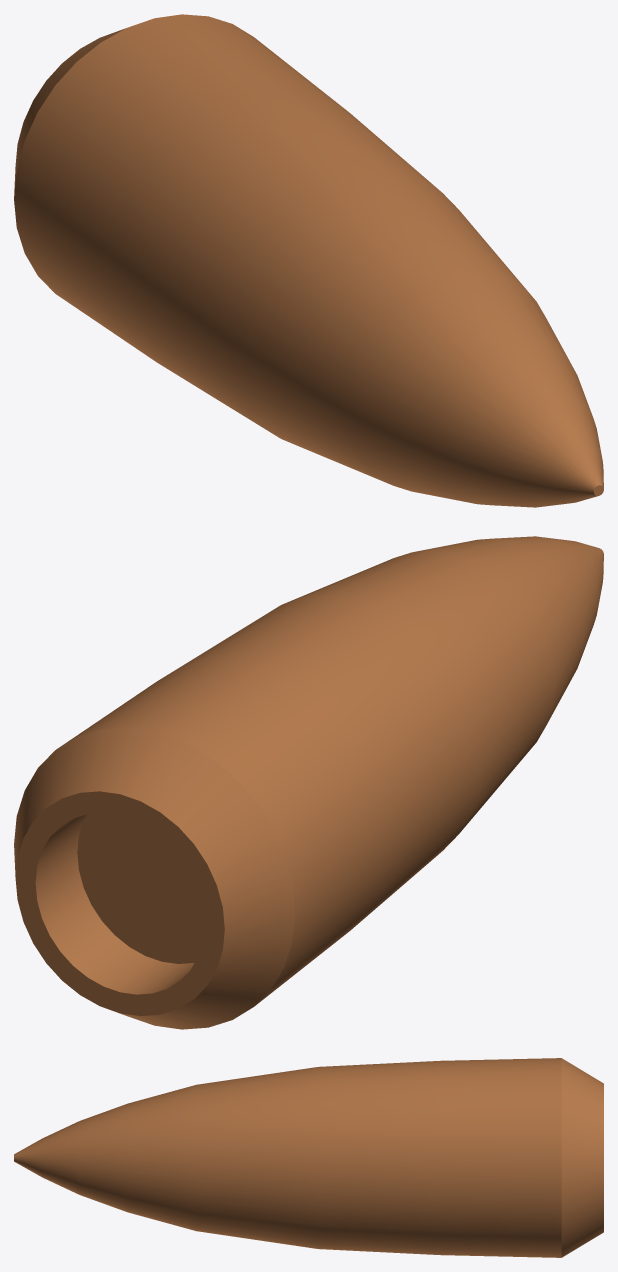
Rendered from bullet.fbx.
3 views of the same model, one above another, from view 1: azimuth 30°, elevation 25°; view 2: azimuth 150°, elevation 25°; view 3: azimuth 270°, elevation 25° (orthographic). The views are drawn at different scales.
Visible parts, largest first — view 1: Bullet; view 2: Bullet; view 3: Bullet.
Part boxes in pixels (x1=…): Bullet: x1=14, y1=14, x2=603, y2=507; Bullet: x1=14, y1=536, x2=603, y2=1029; Bullet: x1=14, y1=1058, x2=603, y2=1257.
Bounding box in the file's own units: 0.3524 × 0.3524 × 1.04.
Materials: 1 (1 with a texture image).
